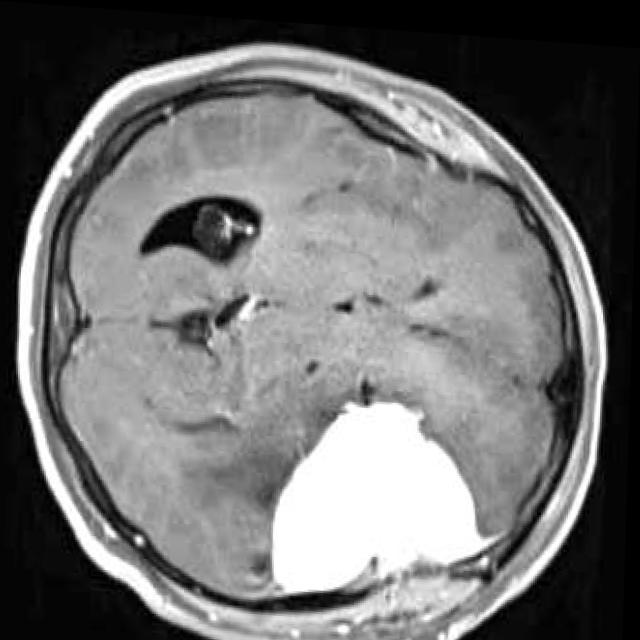Tumor: (274, 397, 485, 589)
